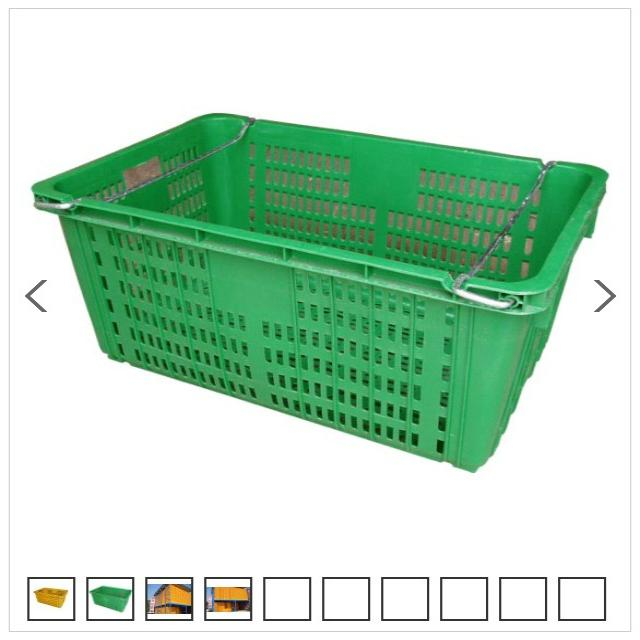basket: (0, 37, 612, 485)
